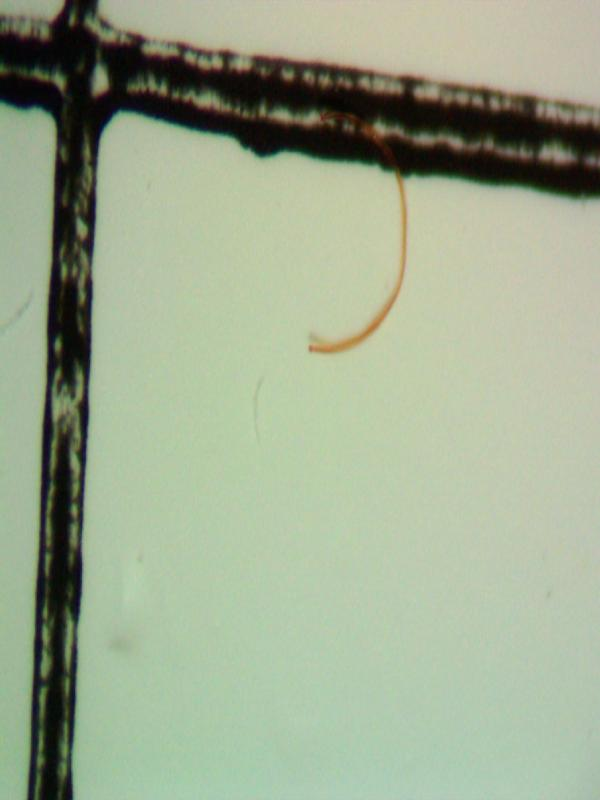microplastic: (1, 1, 598, 798)
